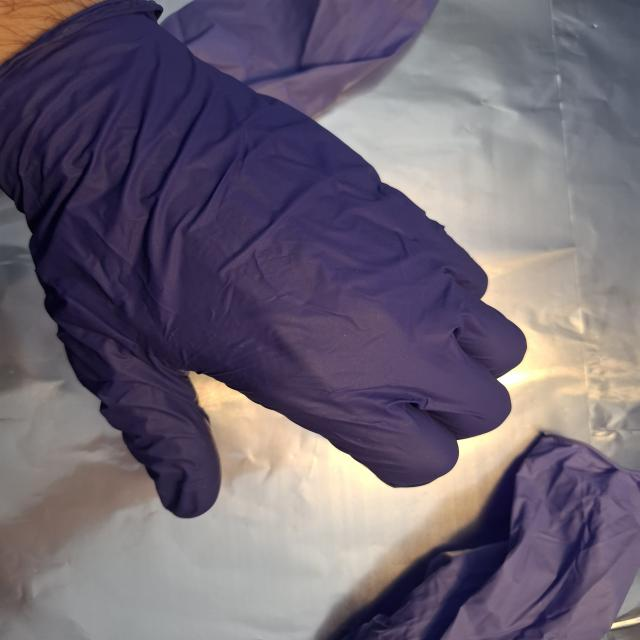glove_on: (0, 2, 534, 523)
